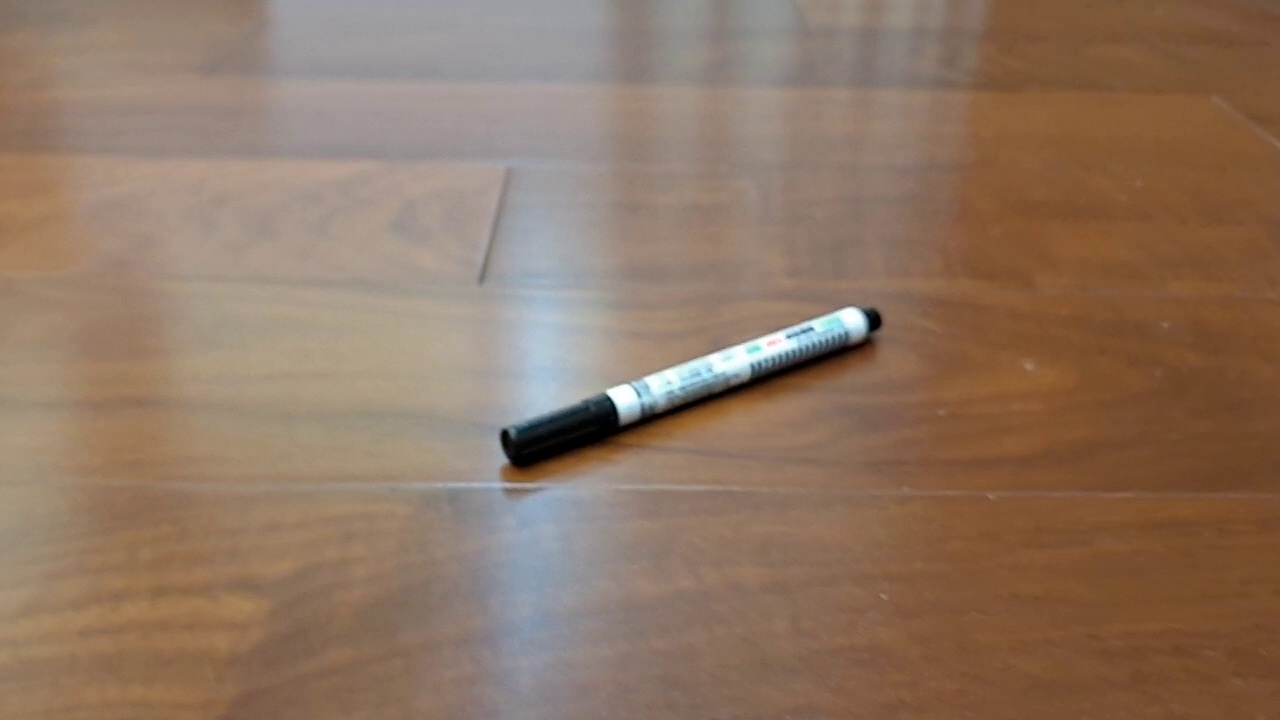pen: (500, 304, 881, 470)
